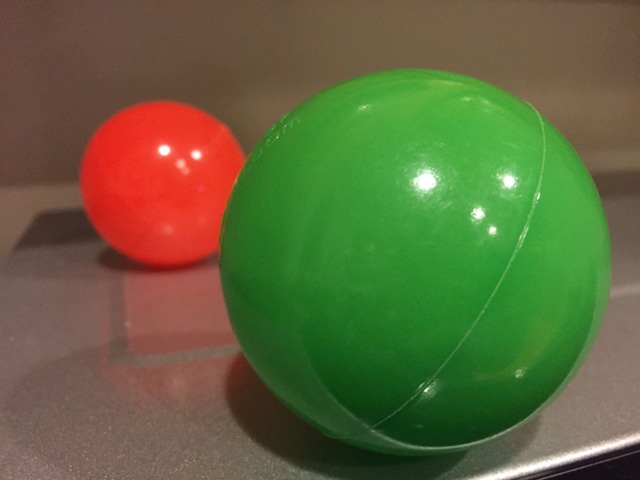Ball: (79, 101, 252, 271)
